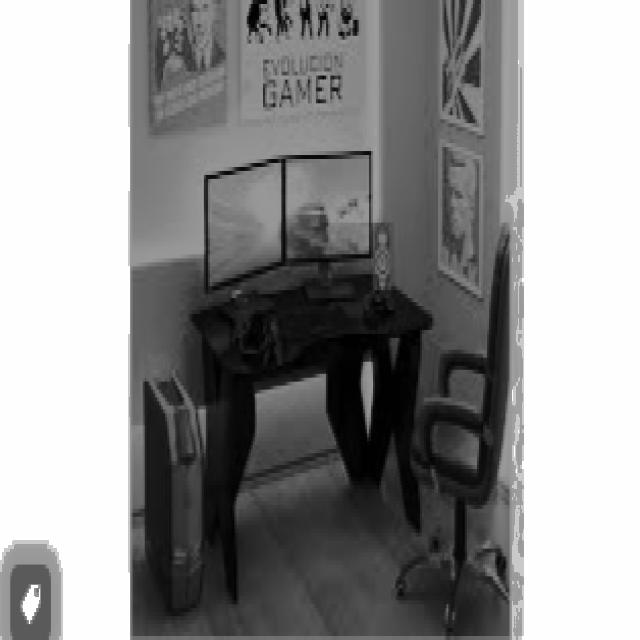book: (394, 219, 512, 628)
table: (188, 274, 432, 600)
